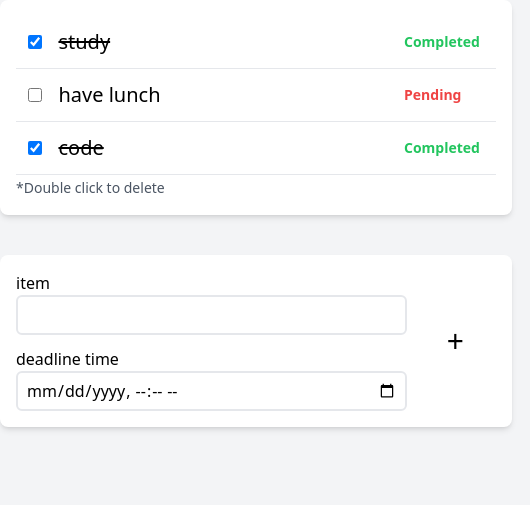
Test: todoList component › should display deadline when times up.
Type "new task" into the field labelled "item" at (211, 315), box [16,295,407,335]
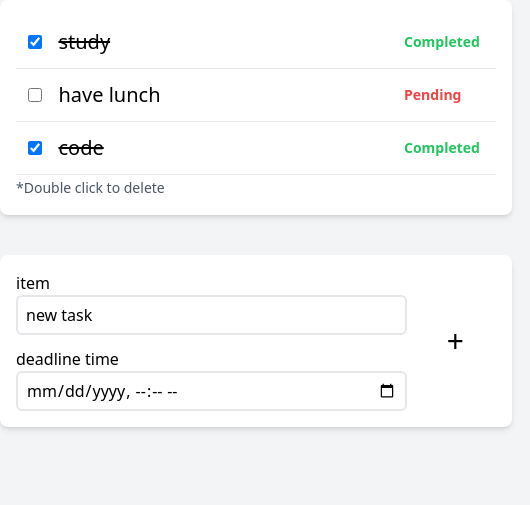
Type "2025-01-01T12:00" into the field labelled "deadline time" at (211, 391), box [16,371,407,411]
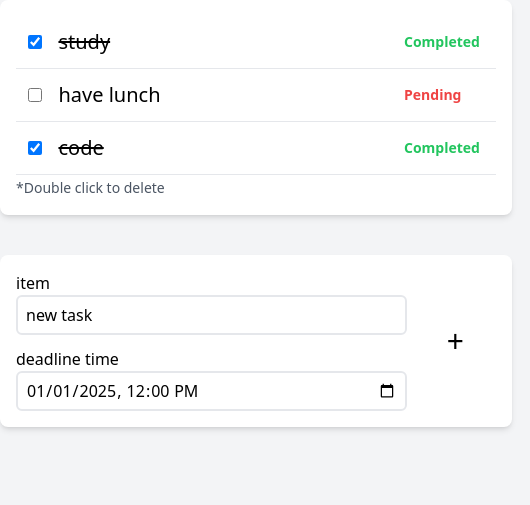
Click the button "+" at (455, 341), box [415,271,496,411]
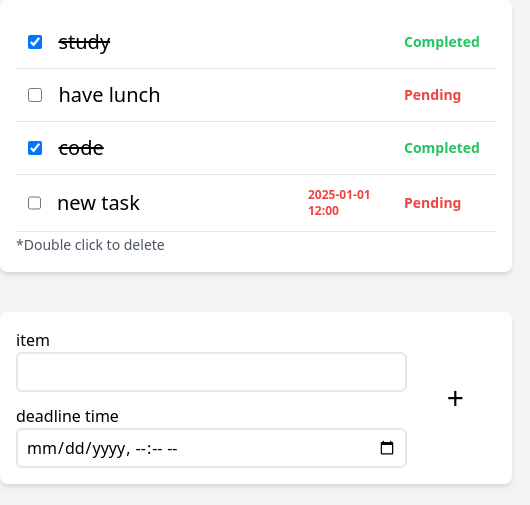
Now the text "2025-01-01 12:00" is shown, box [308,186,371,219]
